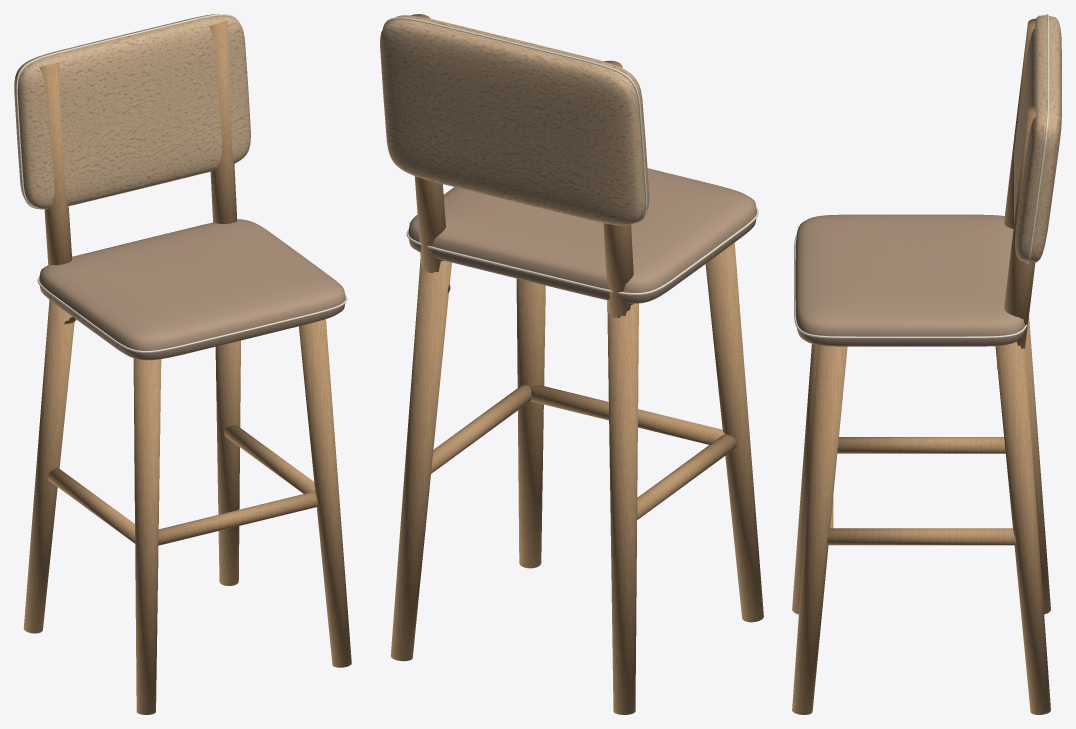
Rendered from scandinavian.stool.gltf.
3 views of the same model, side by side, from view 1: azimuth 30°, elevation 25°; view 2: azimuth 150°, elevation 25°; view 3: azimuth 270°, elevation 25° (orthographic). The views are drawn at different scales.
Parts seen in each view (by area): view 1: scandinavian.stool.leg; view 2: scandinavian.stool.leg; view 3: scandinavian.stool.leg.
Part boxes in pixels (box(x1,y1,x2,y2)): scandinavian.stool.leg: box(14, 14, 351, 714); scandinavian.stool.leg: box(380, 14, 763, 714); scandinavian.stool.leg: box(792, 14, 1061, 714).
Bounding box in the file's own units: 0.4302 × 1.03 × 0.4184.
4 materials, 3 textured.
